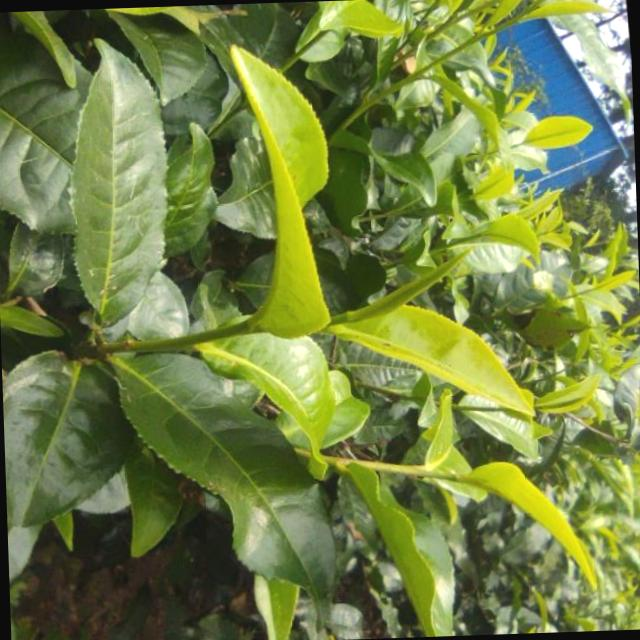Stem: (230, 319, 249, 335), (510, 15, 519, 23)
